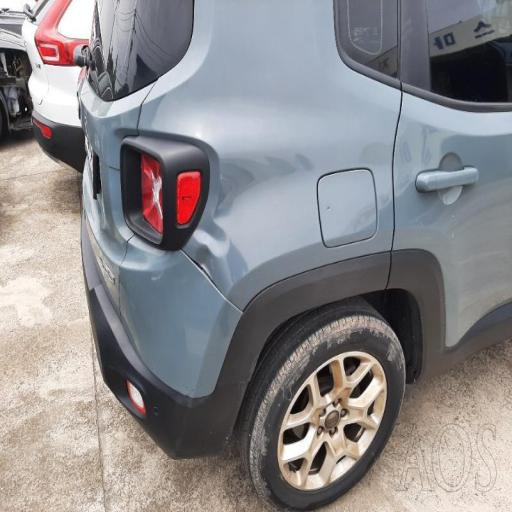dent: (112, 74, 326, 340)
